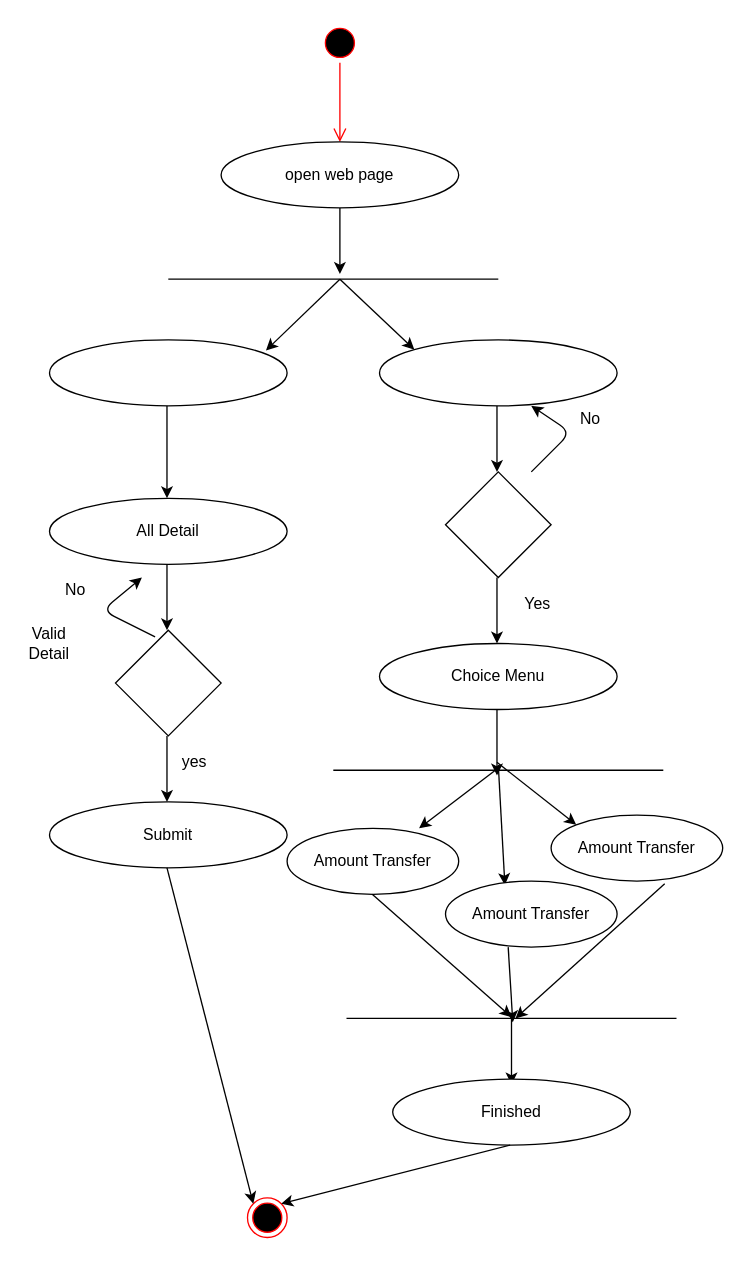
This 746x1261 diagram has some shape labels left out. Each missing label, with the centre of its shape:
"Create Account" belongs at point 167,372.
"Enter Id and Password" belongs at point 497,372.
